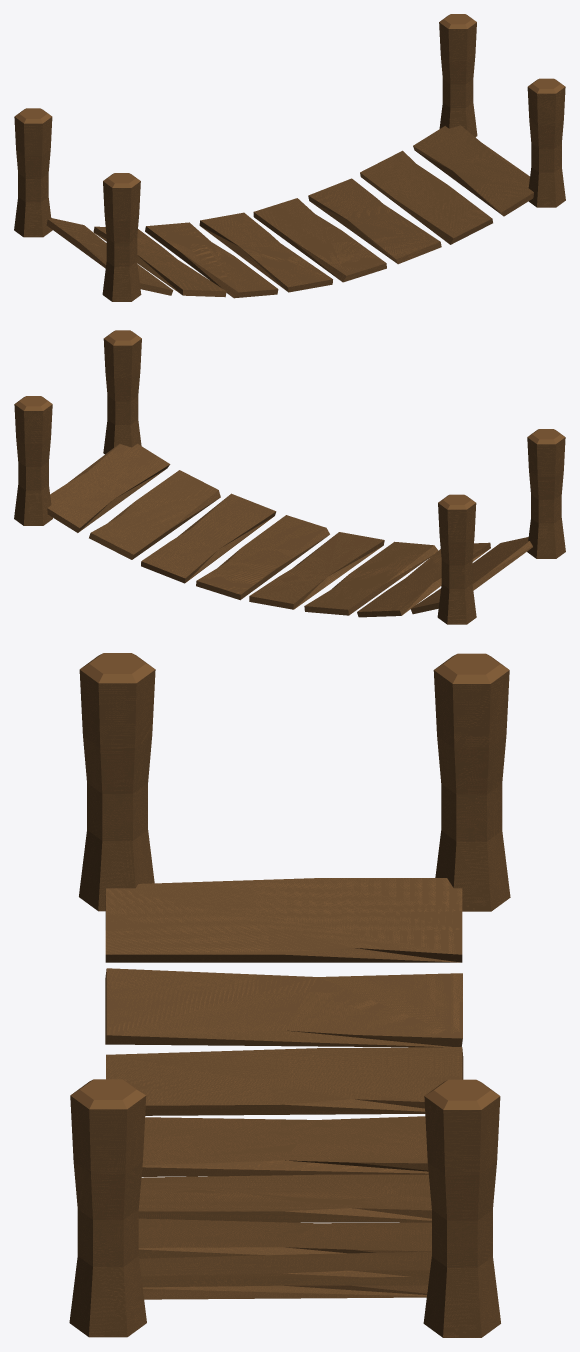
The model's file is Bridge_Small_Timber_Rope_01.fbx.
3 renders of one model, top to bottom at view 1: azimuth 30°, elevation 25°; view 2: azimuth 150°, elevation 25°; view 3: azimuth 270°, elevation 25°, orthographic. The views are drawn at different scales.
Parts seen in each view (by area): view 1: Model; view 2: Model; view 3: Model.
Part boxes in pixels (x1,y1,x2,y2): Model: [14, 14, 565, 301]; Model: [14, 330, 565, 624]; Model: [69, 653, 510, 1337].
Size of the model in its own units: 602 by 198 by 255.
